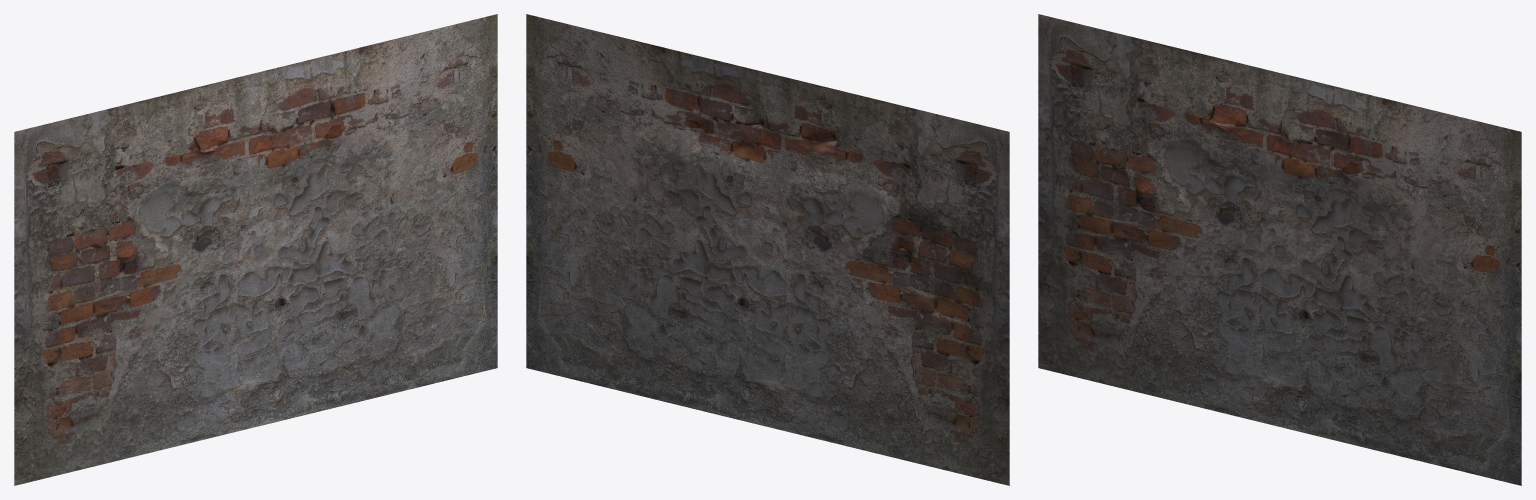
File: SM_ChapelWall_03_01.fbx
3 renders of one model, left to right at view 1: azimuth 30°, elevation 25°; view 2: azimuth 150°, elevation 25°; view 3: azimuth 330°, elevation 25°, orthographic.
Visible parts, largest first — view 1: sm_ChapelWall_03_01_LOD0; view 2: sm_ChapelWall_03_01_LOD0; view 3: sm_ChapelWall_03_01_LOD0.
Part boxes in pixels (<box>): sm_ChapelWall_03_01_LOD0: <box>14,14,497,485</box>; sm_ChapelWall_03_01_LOD0: <box>526,14,1009,485</box>; sm_ChapelWall_03_01_LOD0: <box>1038,14,1521,485</box>.
Size of the model in its own units: 7.95 by 250 by 175.
